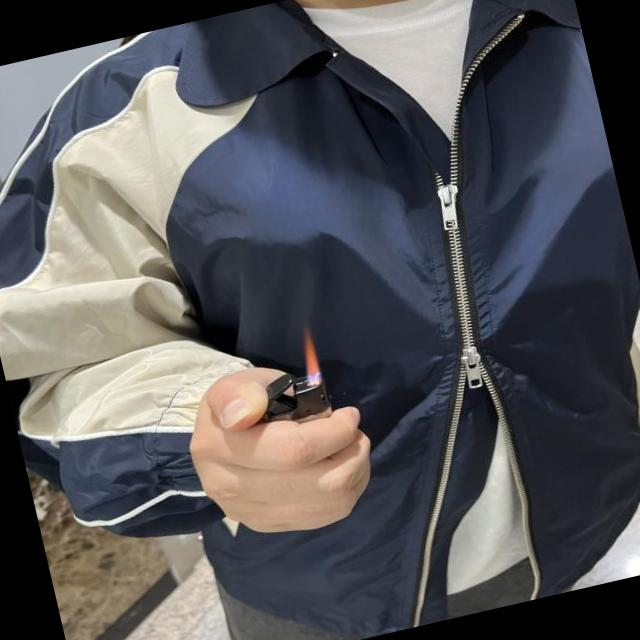Fire: (292, 327, 326, 387)
